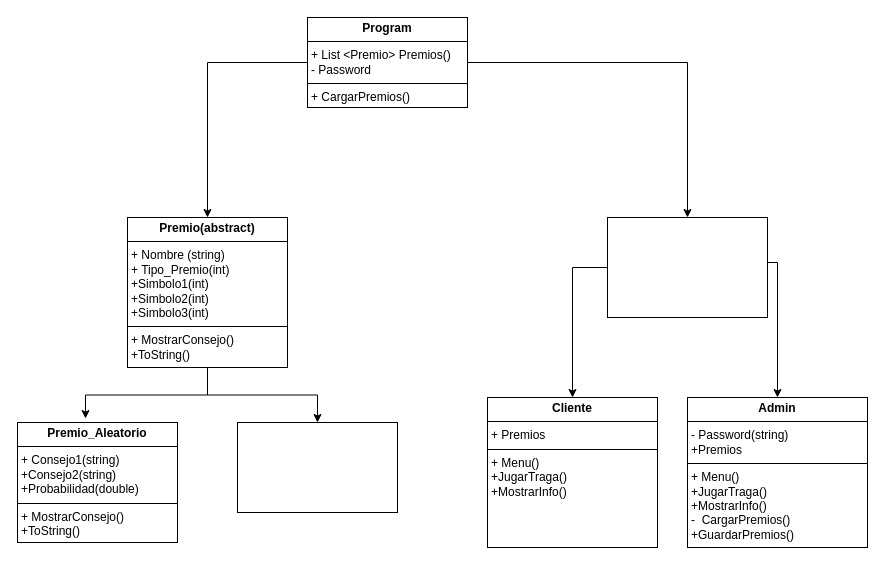
This 885x565 diagram has some shape labels left out. The shapes that lost their labels are listed below. From the top down, each one's centre as x and y in pixels, then its label:
At [687,267]: "Usuario + List <Premios> Premios + Menu() +JugarTraga() +MostrarInfo()".
At [317,467]: "Premio_Simple + Consejo(string) + MostrarConsejo() +ToString()".
